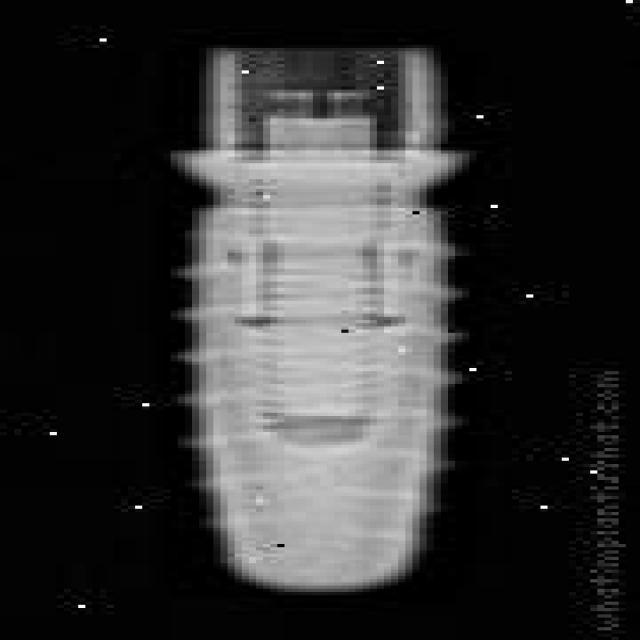Root canal obturation: (157, 44, 478, 601)
